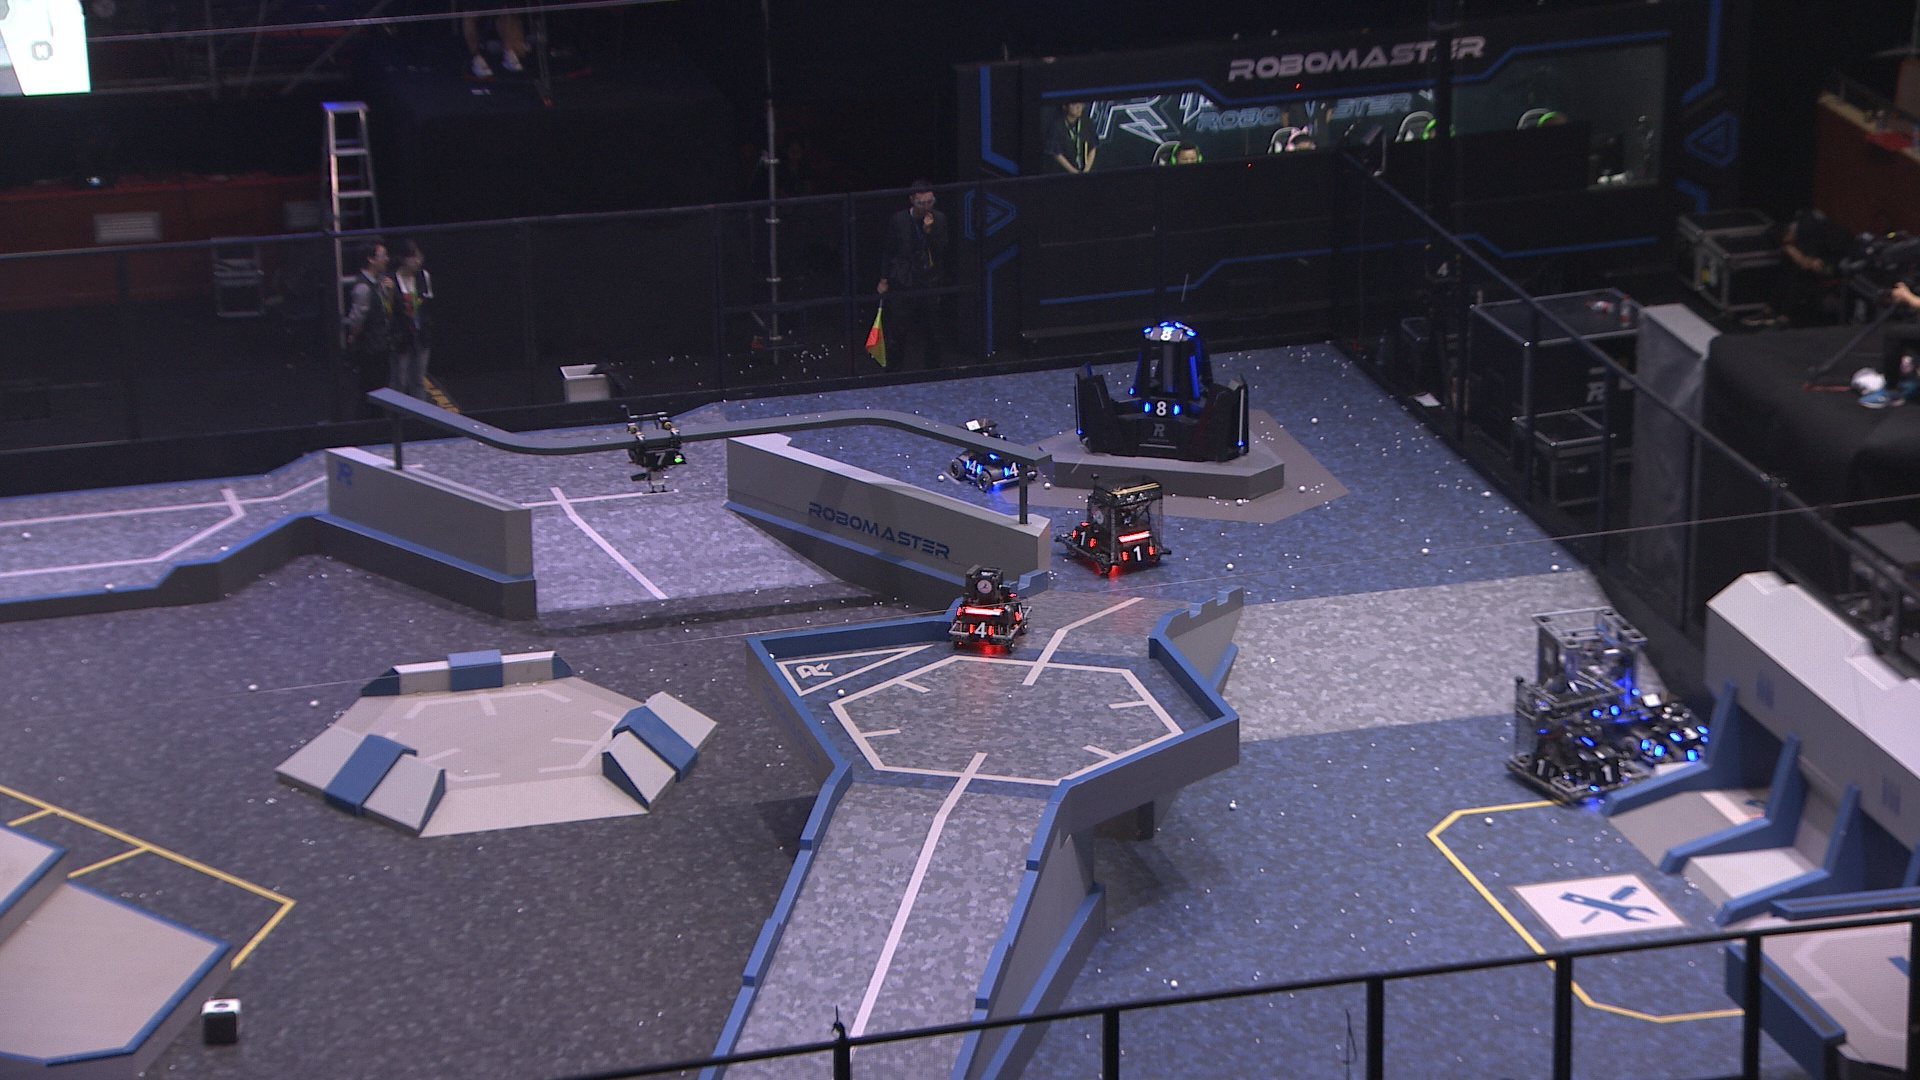armor: (1588, 757, 1629, 787), (1185, 353, 1207, 401), (1578, 740, 1619, 764), (1524, 752, 1555, 783), (637, 447, 684, 467), (1121, 541, 1158, 566), (1588, 699, 1621, 727), (1141, 400, 1185, 417), (1638, 733, 1667, 760), (1667, 723, 1705, 742), (964, 618, 997, 641), (1687, 738, 1714, 764), (1069, 527, 1097, 549), (1000, 458, 1022, 480), (1010, 599, 1030, 624), (963, 456, 986, 475)
base: (1069, 313, 1255, 465)
car: (1501, 665, 1654, 803), (1524, 600, 1655, 738), (1059, 471, 1178, 576), (1607, 688, 1724, 775), (945, 564, 1034, 655), (945, 411, 1043, 491)
ignore: (1145, 324, 1183, 343)
watcher: (622, 409, 690, 495)
